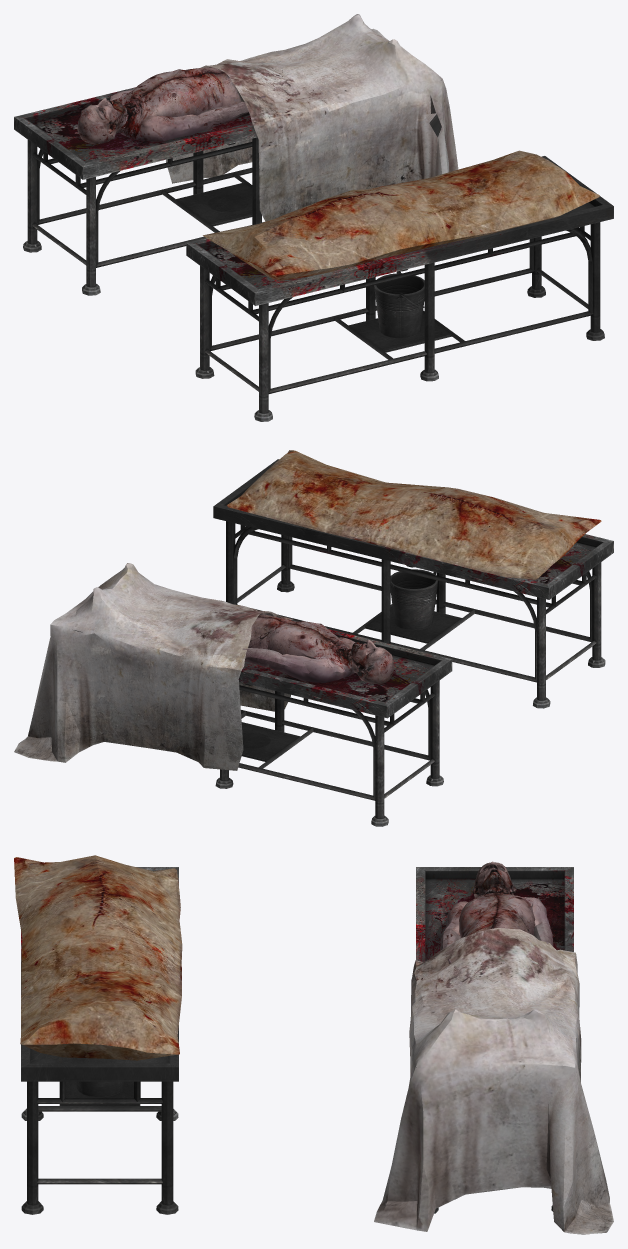
The model's file is dead man stacher.fbx.
The picture shows the model from 3 angles, top to bottom: view 1: azimuth 30°, elevation 25°; view 2: azimuth 150°, elevation 25°; view 3: azimuth 270°, elevation 25°; orthographic projection. The views are drawn at different scales.
Visible parts, largest first — view 1: body_cloth_m_0, body3_table_m_0, body3_bag2_m_0, body_table_m_0, body_body_m_0; view 2: body_cloth_m_0, body3_bag2_m_0, body3_table_m_0, body_table_m_0, body_body_m_0; view 3: body_cloth_m_0, body3_bag2_m_0, body3_table_m_0, body_table_m_0, body_body_m_0.
Part boxes in pixels (x1,y1,x2,y2): body_cloth_m_0: (166, 14, 458, 221); body3_table_m_0: (186, 156, 613, 421); body3_bag2_m_0: (203, 150, 599, 280); body_table_m_0: (14, 80, 441, 295); body_body_m_0: (77, 67, 265, 144); body_cloth_m_0: (14, 563, 293, 770); body3_bag2_m_0: (227, 450, 601, 579); body3_table_m_0: (213, 459, 613, 708); body_table_m_0: (74, 613, 452, 826); body_body_m_0: (243, 613, 394, 684); body_cloth_m_0: (374, 928, 613, 1234); body3_bag2_m_0: (14, 855, 182, 1060); body3_table_m_0: (21, 867, 178, 1214); body_table_m_0: (416, 867, 573, 1213); body_body_m_0: (440, 861, 553, 963).
Size of the model in its own units: 2.61 by 1.09 by 3.04.
7 materials, 6 textured.
